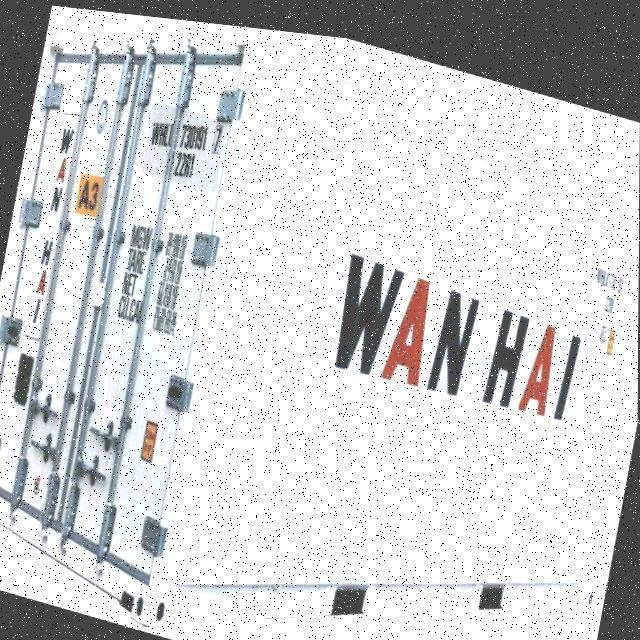container_number_h: (141, 96, 228, 188)
